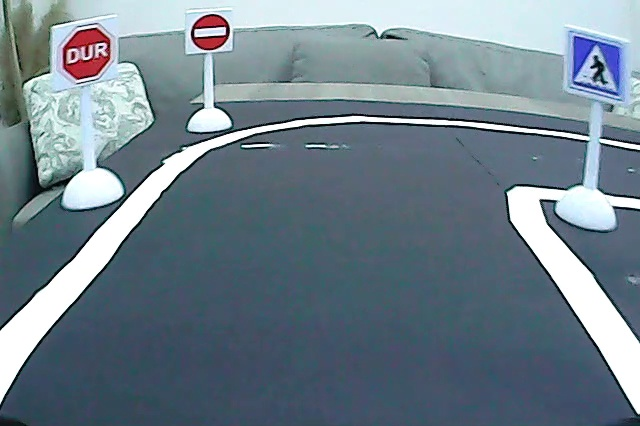do not enter: (189, 12, 231, 55)
pedestrian crossing: (569, 30, 626, 103)
stop sign: (55, 20, 116, 87)
